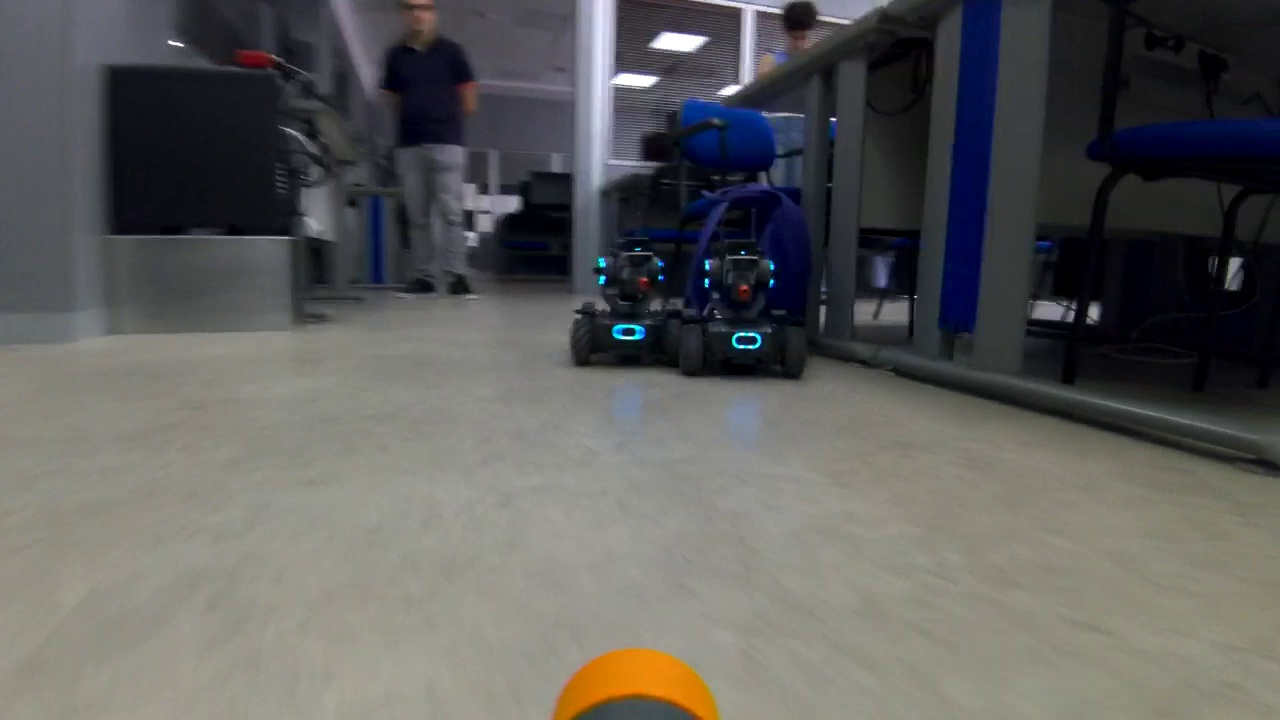robot: (692, 216, 818, 386), (566, 235, 683, 373)
